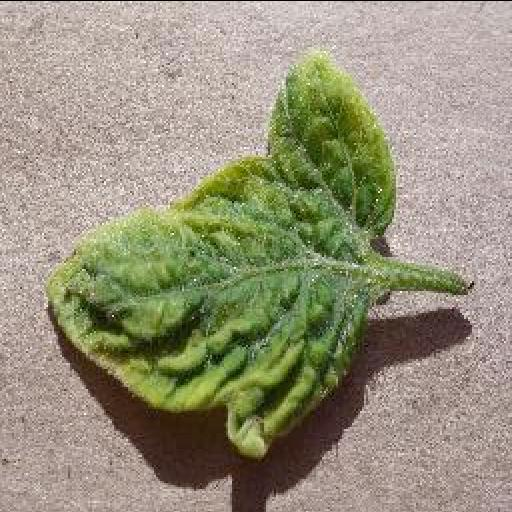disease_tomato: (42, 52, 402, 456)
